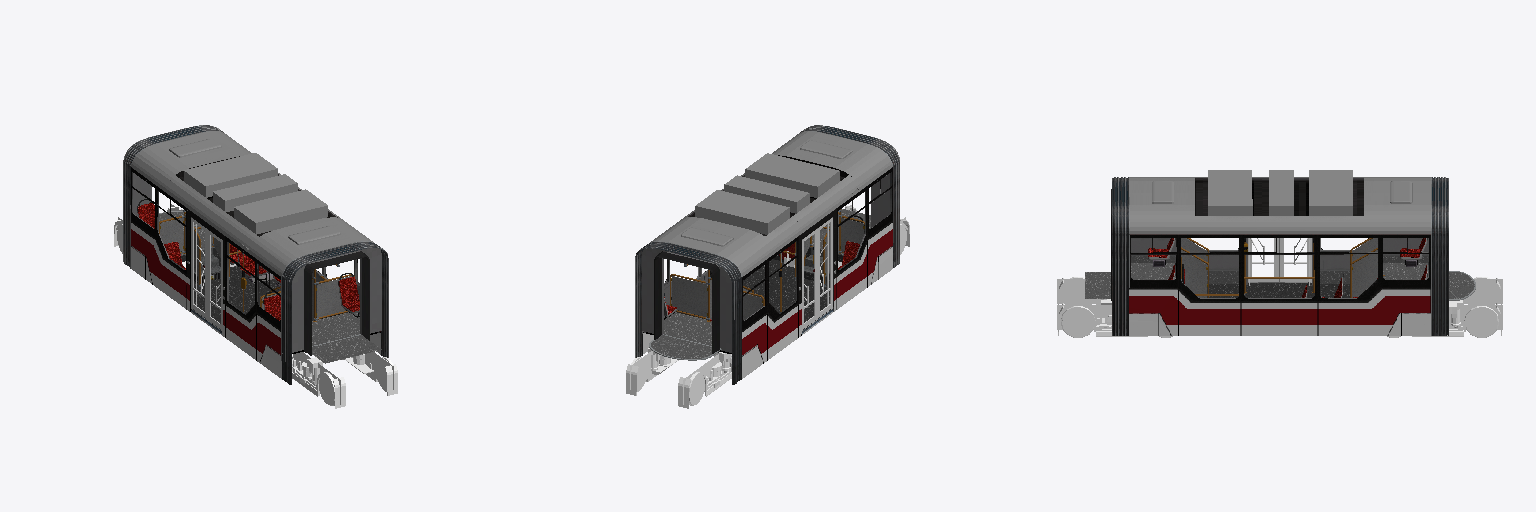
The picture shows the model from 3 angles: view 1: azimuth 30°, elevation 25°; view 2: azimuth 150°, elevation 25°; view 3: azimuth 270°, elevation 25°; orthographic projection.
Parts seen in each view (by area): view 1: EXT, INT, BOG, D_RR, D_RL; view 2: EXT, INT, BOG, D_RL, D_RR; view 3: EXT, INT, BOG.
Part boxes in pixels (left/top/right/bottom): EXT: left=123, top=125, right=388, bottom=384; INT: left=132, top=156, right=381, bottom=363; BOG: left=114, top=204, right=397, bottom=408; D_RR: left=207, top=229, right=222, bottom=330; D_RL: left=191, top=218, right=206, bottom=318; EXT: left=635, top=125, right=899, bottom=384; INT: left=644, top=172, right=891, bottom=360; BOG: left=626, top=205, right=909, bottom=408; D_RL: left=802, top=229, right=817, bottom=329; D_RR: left=818, top=218, right=832, bottom=317; EXT: left=1112, top=170, right=1448, bottom=335; INT: left=1085, top=189, right=1475, bottom=300; BOG: left=1057, top=277, right=1502, bottom=337.
Bounding box in the file's own units: 2.49 × 3.24 × 9.63.
15 materials, 9 textured.